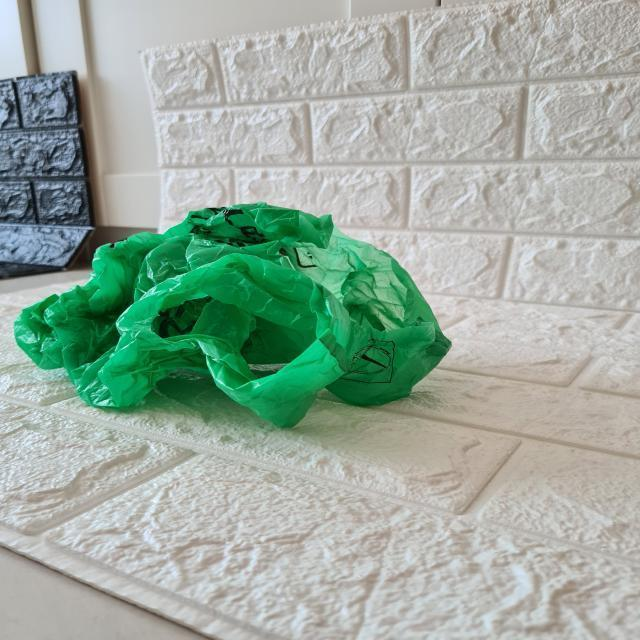Plastic_Bag: (20, 196, 451, 425)
